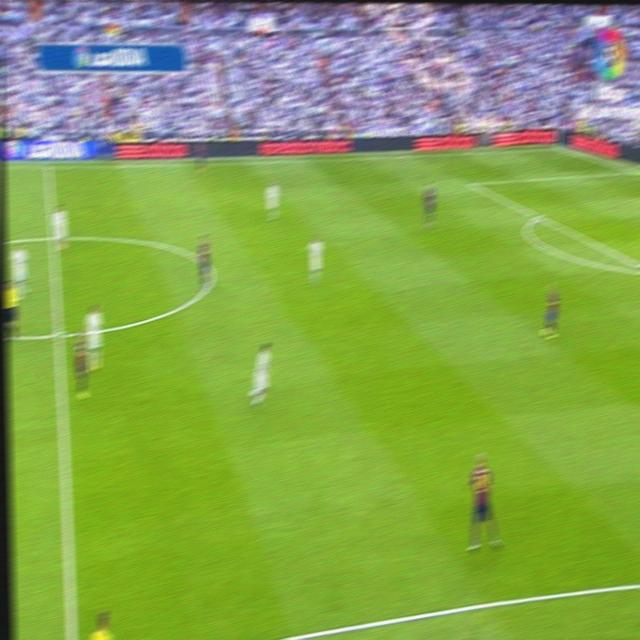halfcircle_bottom: (52, 322, 66, 348)
halfcircle_top: (47, 229, 60, 247)
midline_top_intersection: (43, 160, 54, 172)
top_arc_area_intersection: (532, 208, 543, 224)
